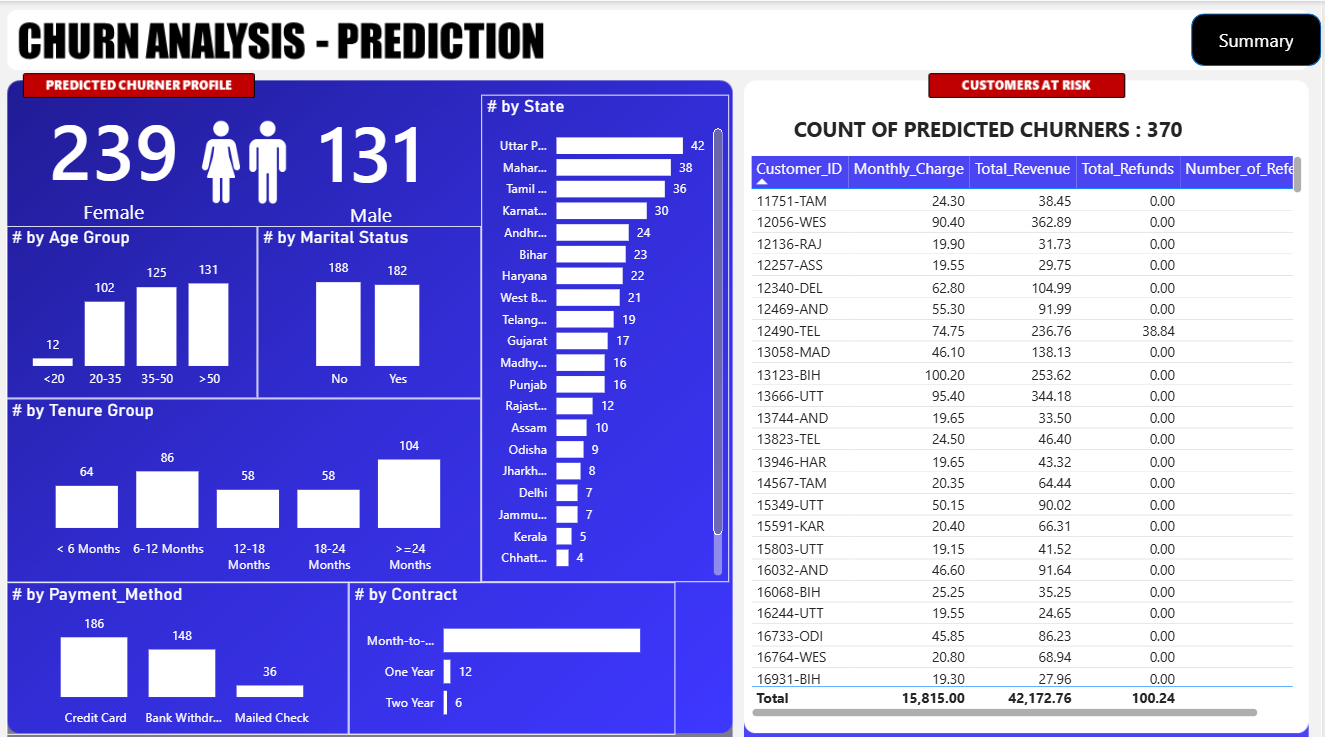

The dashboard page shown, as its layout file describes it:
{"tool":"powerbi","page":{"name":"Churn Prediction","canvas":[1280,720],"ordinal":2},"visuals":[{"type":"tableEx","fields":{"Values":["Predictions.Customer_ID","Sum(Predictions.Monthly_Charge)","Sum(Predictions.Total_Revenue)","Sum(Predictions.Total_Refunds)","Sum(Predictions.Number_of_Referrals)"]},"box":[723.9,144.8,542.9,551.3],"z":0},{"type":"cardVisual","fields":{"Data":["tbl_Measures.Title Predicted Chrurner"]},"box":[742,90.5,439.1,63.9],"z":1},{"type":"cardVisual","fields":{"Data":["tbl_Measures.Count Predicted Churner"]},"box":[10.9,77.2,208.7,153.2],"z":2},{"type":"cardVisual","fields":{"Data":["tbl_Measures.Count Predicted Churner"]},"box":[257,78.4,212.3,154.4],"z":3},{"type":"clusteredColumnChart","fields":{"Category":["Mapping_AgeGrp.Age Group"],"Y":["CountNonNull(Predictions.Customer_ID)"]},"box":[10.9,217.2,242.5,166.5],"z":4},{"type":"clusteredColumnChart","fields":{"Category":["Predictions.Married"],"Y":["CountNonNull(Predictions.Customer_ID)"]},"box":[253.4,217.2,216,166.5],"z":5},{"type":"clusteredColumnChart","fields":{"Y":["CountNonNull(Predictions.Customer_ID)"],"Category":["Mapping_TenureGrp.Tenure Group"]},"box":[10.9,383.6,458.4,177.3],"z":6},{"type":"clusteredColumnChart","fields":{"Category":["Predictions.Payment_Method"],"Y":["CountNonNull(Predictions.Customer_ID)"]},"box":[10.9,561,330.6,147.2],"z":7},{"type":"clusteredBarChart","fields":{"Category":["Predictions.Contract"],"Y":["CountNonNull(Predictions.Customer_ID)"]},"box":[341.4,561,314.9,147.2],"z":8},{"type":"clusteredBarChart","fields":{"Y":["CountNonNull(Predictions.State)"],"Category":["Predictions.State"]},"box":[469.3,90.5,238.9,470.5],"z":9},{"type":"image","box":[189.4,92.9,101.3,124.3],"z":10},{"type":"shape","box":[1154.6,12.1,125.5,50.7],"z":11}]}

Visuals, with their boxes in screenshot pixels (x1, y1, x2, y2), scaled from the page's 1280x720 canvas onto the 1325x737 screenshot:
tableEx - Predictions.Customer_ID x Sum(Predictions.Monthly_Charge): bbox=[749, 148, 1311, 713]
cardVisual - tbl_Measures.Title Predicted Chrurner: bbox=[768, 93, 1223, 158]
cardVisual - tbl_Measures.Count Predicted Churner: bbox=[11, 79, 227, 236]
cardVisual - tbl_Measures.Count Predicted Churner: bbox=[266, 80, 486, 238]
clusteredColumnChart - Mapping_AgeGrp.Age Group x CountNonNull(Predictions.Customer_ID): bbox=[11, 222, 262, 393]
clusteredColumnChart - Predictions.Married x CountNonNull(Predictions.Customer_ID): bbox=[262, 222, 486, 393]
clusteredColumnChart - CountNonNull(Predictions.Customer_ID) x Mapping_TenureGrp.Tenure Group: bbox=[11, 393, 486, 574]
clusteredColumnChart - Predictions.Payment_Method x CountNonNull(Predictions.Customer_ID): bbox=[11, 574, 354, 725]
clusteredBarChart - Predictions.Contract x CountNonNull(Predictions.Customer_ID): bbox=[353, 574, 679, 725]
clusteredBarChart - CountNonNull(Predictions.State) x Predictions.State: bbox=[486, 93, 733, 574]
image: bbox=[196, 95, 301, 222]
shape: bbox=[1195, 12, 1324, 64]
